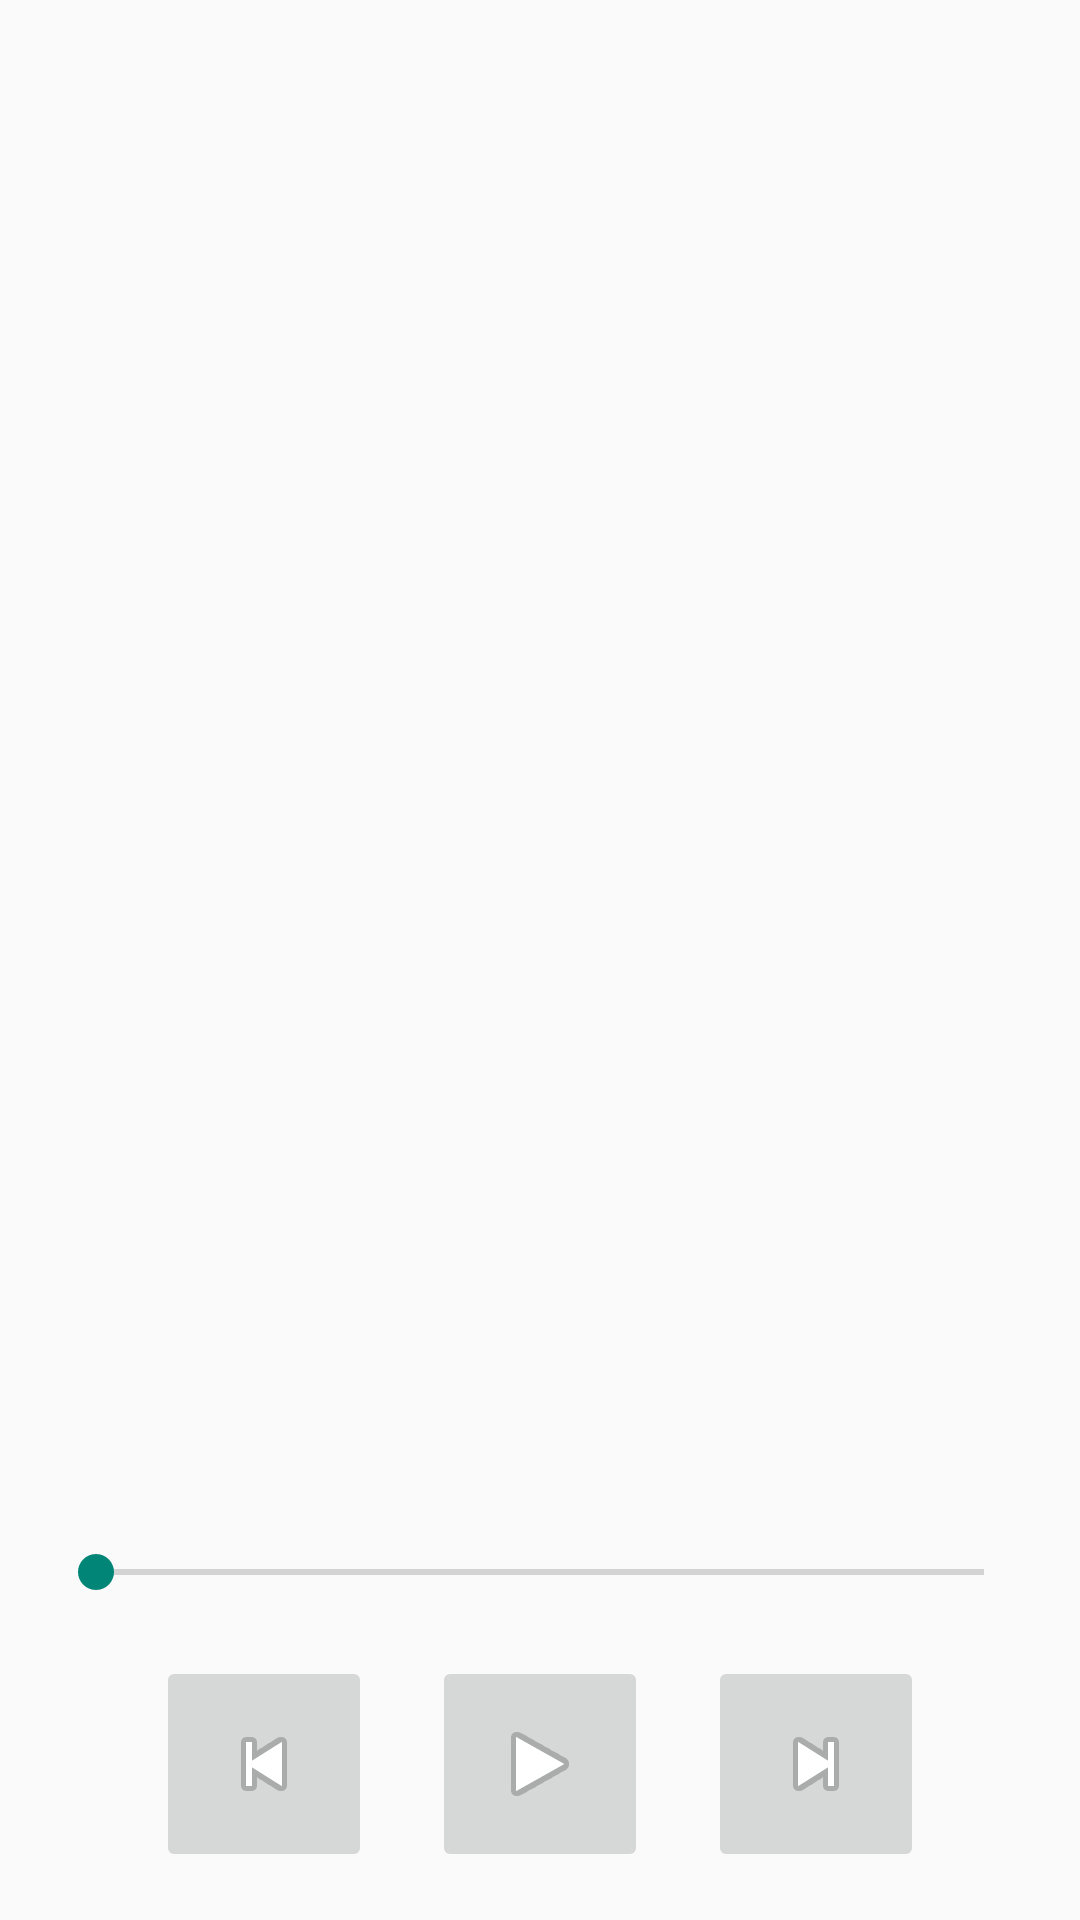

Icons on this 1080 x 1920 Android screen, each with its box as (x1, y1, x2, y2):
Next: (720, 1674, 912, 1854)
Play: (444, 1674, 636, 1854)
Previous: (168, 1674, 360, 1854)
